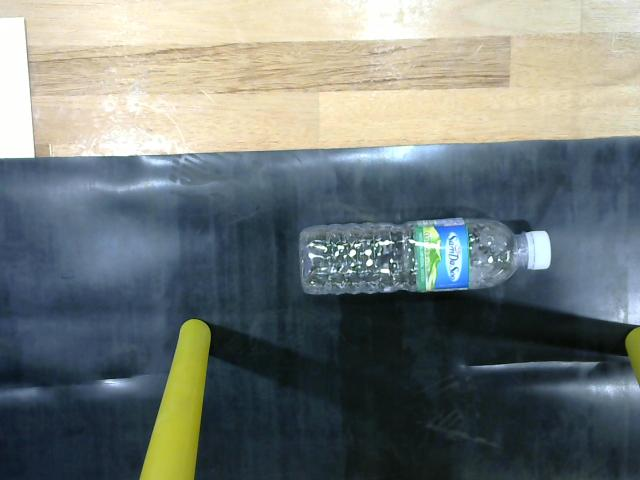bottle: (294, 209, 558, 304)
